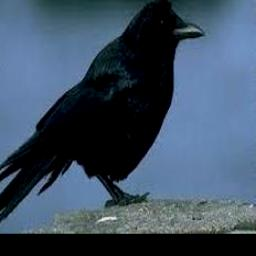Crow: (0, 0, 204, 227)
